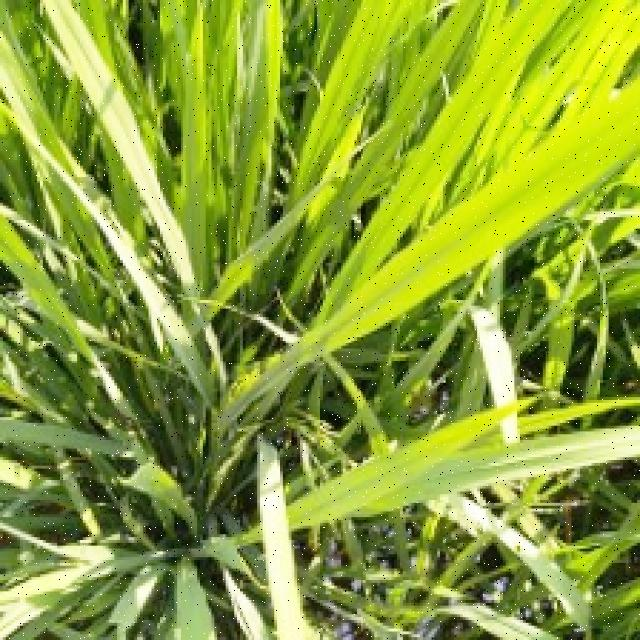health: (357, 2, 640, 311)
